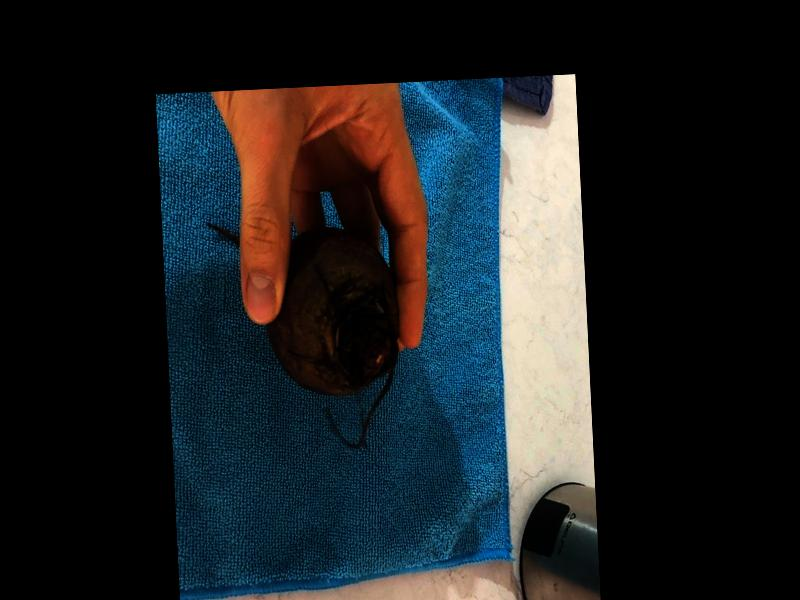Beet: (207, 214, 403, 453)
